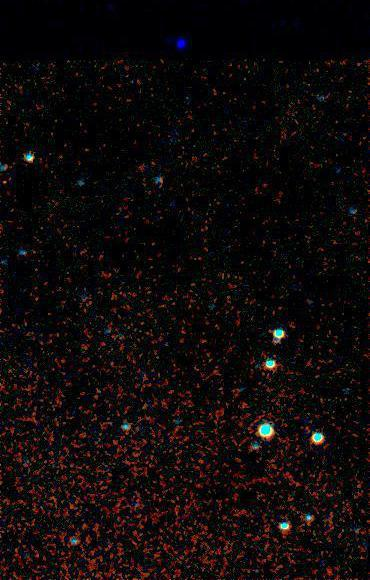star: (0, 169, 26, 199)
